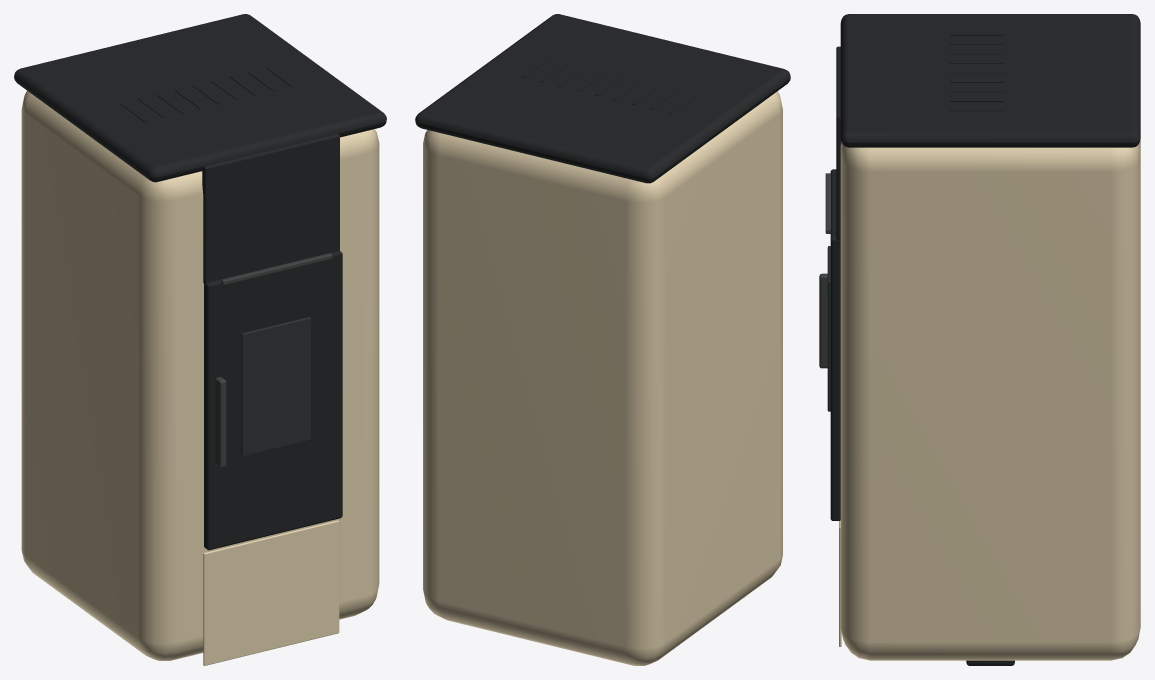
File: nordica-mariella-plus-ad-avorio.glb
The picture shows the model from 3 angles, left to right: view 1: azimuth 30°, elevation 25°; view 2: azimuth 150°, elevation 25°; view 3: azimuth 270°, elevation 25°; orthographic projection. The views are drawn at different scales.
Parts seen in each view (by area): view 1: Corpo laterale, Copertura superiore, Cornice sportello, Pannello superiore, Base frontale, Vetro sportello, Maniglia sportello, Presa superiore; view 2: Corpo laterale, Copertura superiore; view 3: Corpo laterale, Copertura superiore, Cornice sportello, Pannello superiore, Maniglia sportello, Vetro sportello.
Part boxes in pixels (x1,y1,x2,y2): Corpo laterale: (21, 90, 379, 660); Copertura superiore: (14, 14, 386, 182); Cornice sportello: (204, 250, 342, 550); Pannello superiore: (202, 133, 339, 283); Base frontale: (203, 520, 339, 665); Vetro sportello: (241, 317, 310, 456); Maniglia sportello: (215, 377, 226, 467); Presa superiore: (221, 253, 332, 285); Corpo laterale: (423, 91, 782, 665); Copertura superiore: (415, 14, 790, 183); Corpo laterale: (840, 139, 1140, 660); Copertura superiore: (840, 14, 1140, 147); Cornice sportello: (830, 169, 840, 520); Pannello superiore: (836, 46, 841, 240); Maniglia sportello: (819, 273, 827, 368); Vetro sportello: (827, 246, 830, 411).
Size of the model in its own units: 0.495 by 1.02 by 0.5442.
